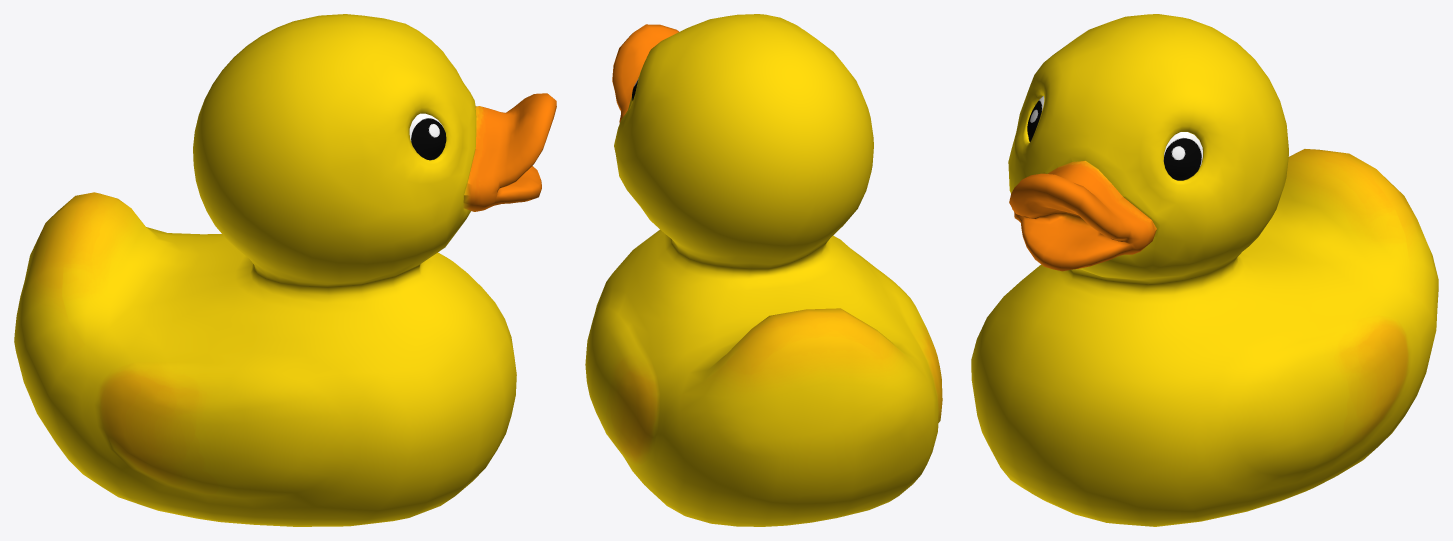
Rendered from Duck.gltf.
3 views of the same model, side by side, from view 1: azimuth 30°, elevation 25°; view 2: azimuth 150°, elevation 25°; view 3: azimuth 270°, elevation 25° (orthographic). The views are drawn at different scales.
Visible parts, largest first — view 1: LOD3spShape; view 2: LOD3spShape; view 3: LOD3spShape.
Part boxes in pixels (x1=…): LOD3spShape: x1=14, y1=14, x2=556, y2=526; LOD3spShape: x1=585, y1=14, x2=942, y2=526; LOD3spShape: x1=971, y1=14, x2=1438, y2=526.
Bounding box in the file's own units: 0.0751 × 0.077 × 0.0718.
1 material, 1 textured.
